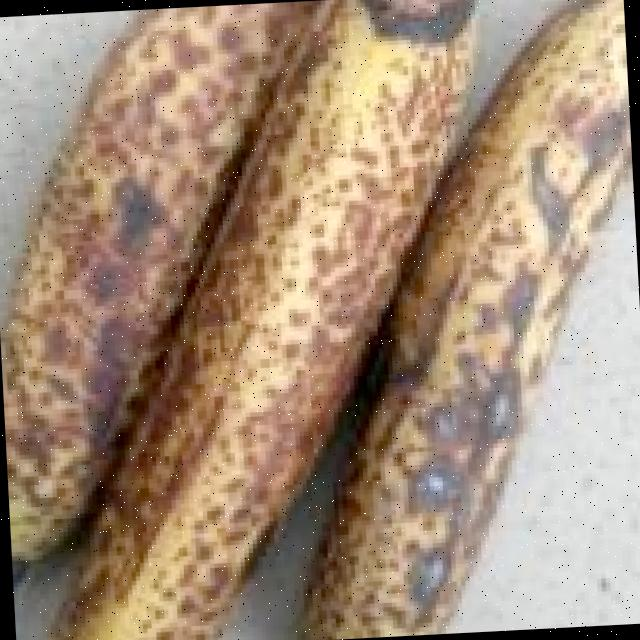Bad_Banana-0 day: (2, 0, 632, 640)
